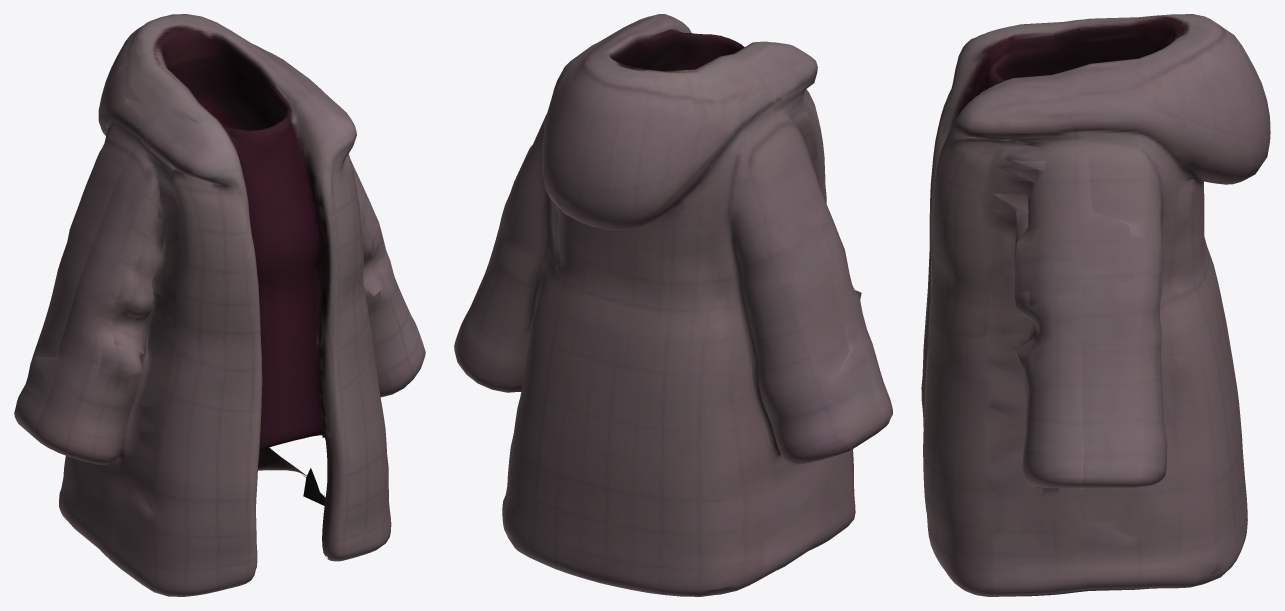
Rendered from Chibi Girl Coat.glb.
3 views of the same model, side by side, from view 1: azimuth 30°, elevation 25°; view 2: azimuth 150°, elevation 25°; view 3: azimuth 270°, elevation 25° (orthographic). The views are drawn at different scales.
Parts seen in each view (by area): view 1: coat; view 2: coat; view 3: coat.
Part boxes in pixels (x1,y1,x2,y2): coat: (14, 14, 425, 596); coat: (454, 14, 892, 596); coat: (921, 14, 1270, 596).
Size of the model in its own units: 0.3644 by 0.4332 by 0.2672.
Materials: 1 (1 with a texture image).
